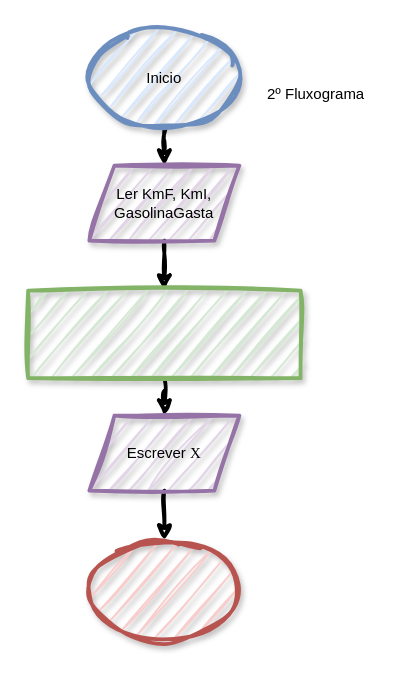
This 400x673 diagram has some shape labels left out. The shapes that lost their labels are listed below. From the top down, each one's centre as x and y in pixels, then its label:
At point 165,335: "X = (100*GasolinaGasta)/KmF-KmI".
At point 165,592: "Fim".
